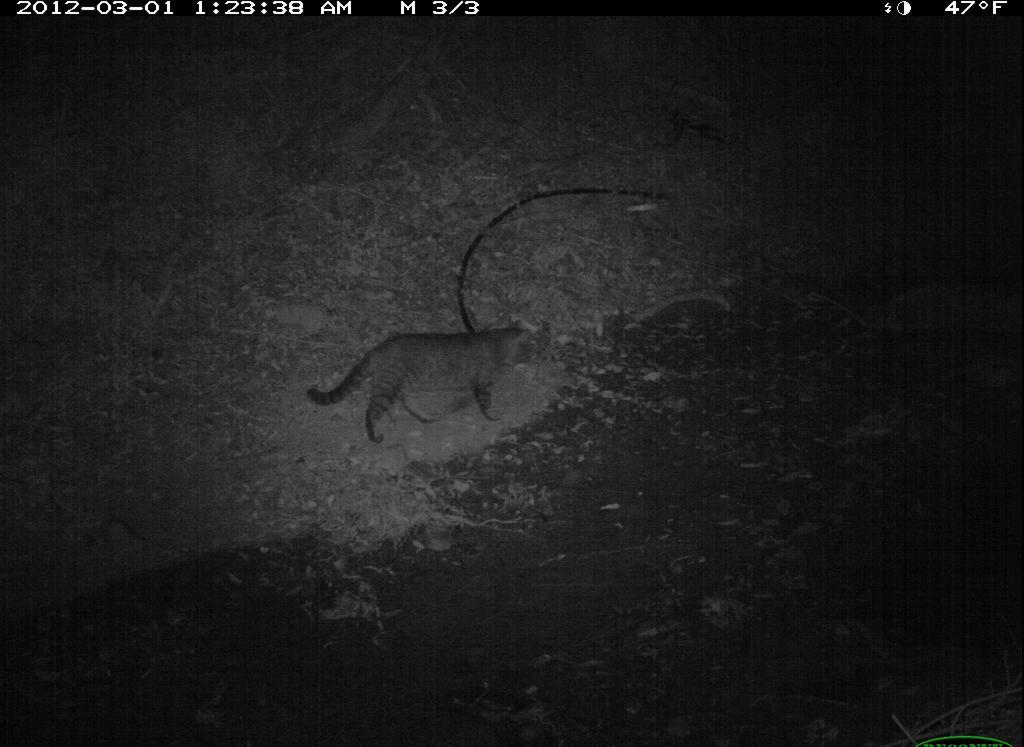cat: (301, 312, 557, 454)
